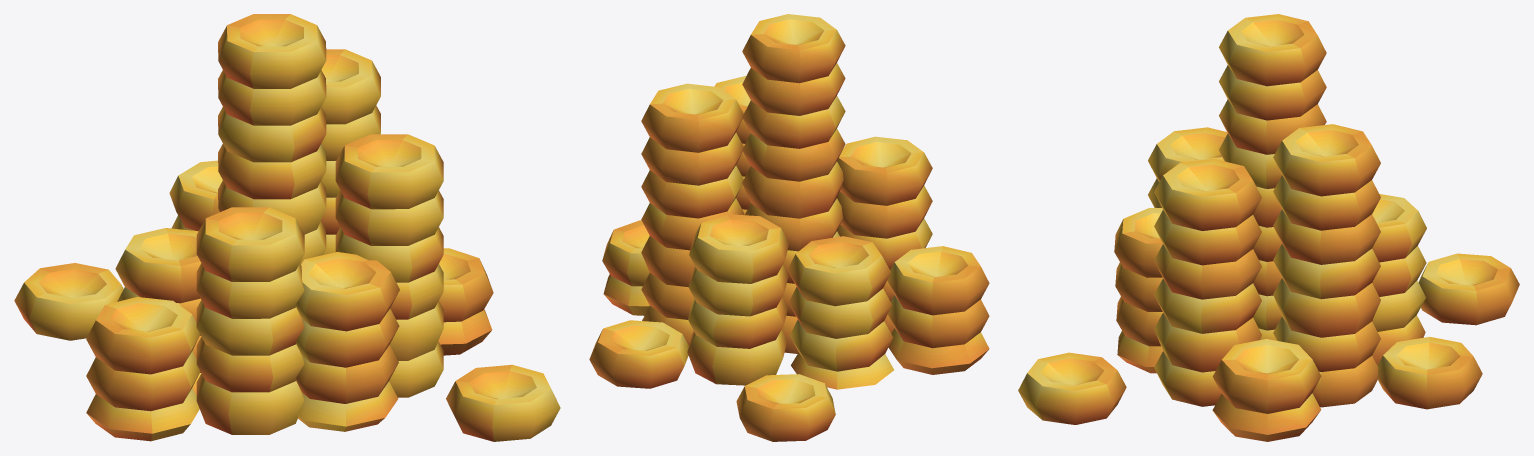
The model's file is coin_stack_large.glb.
The picture shows the model from 3 angles, left to right: view 1: azimuth 30°, elevation 25°; view 2: azimuth 150°, elevation 25°; view 3: azimuth 270°, elevation 25°; orthographic projection. The views are drawn at different scales.
Parts seen in each view (by area): view 1: coin_stack_large; view 2: coin_stack_large; view 3: coin_stack_large.
Part boxes in pixels (<box>): coin_stack_large: <box>14,14,560,441</box>; coin_stack_large: <box>589,14,989,441</box>; coin_stack_large: <box>1018,14,1519,441</box>.
Size of the model in its own units: 1.44 by 1.16 by 1.66.
Materials: 1 (1 with a texture image).
